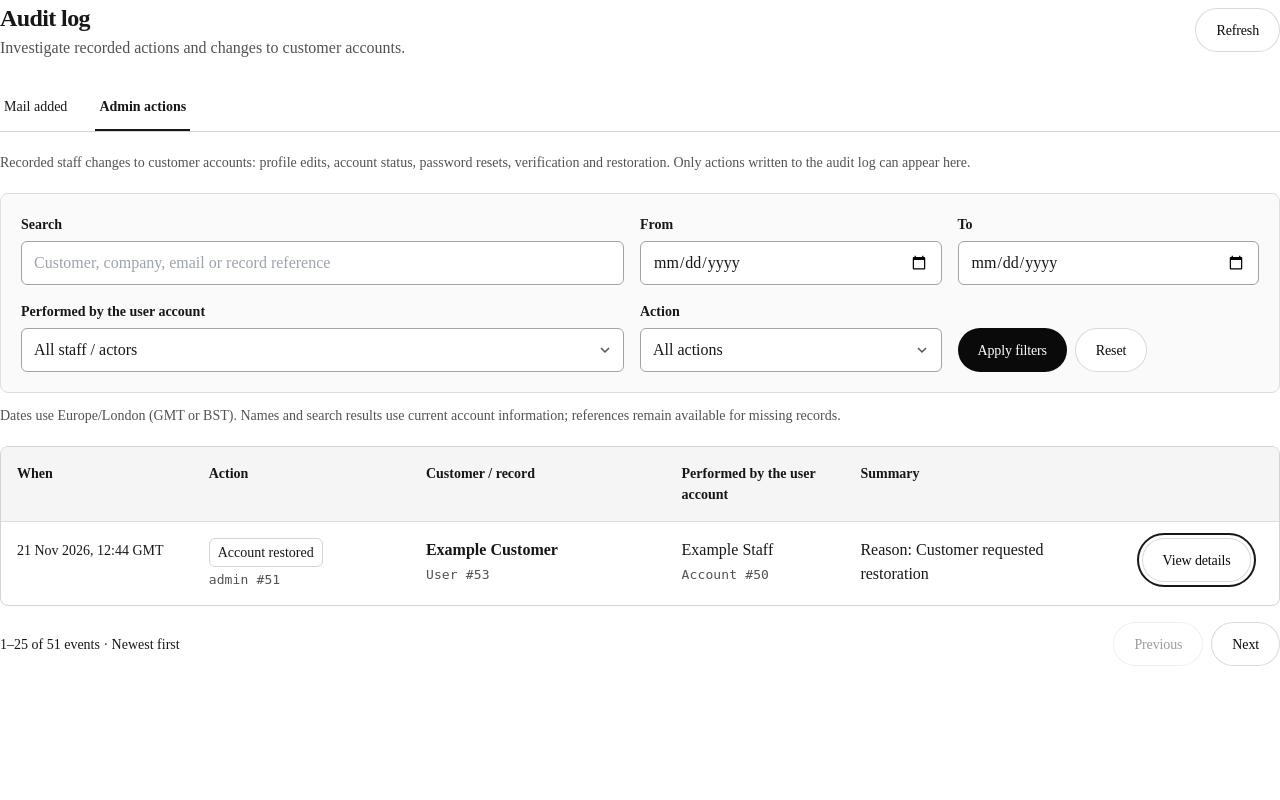
Test: audit investigation › opens a read-only panel, closes on Escape, and restores focus
Click the button with aria-label "View details for admin event 51" at coordinates (1197, 560), box x1=1142 y1=538 x2=1252 y2=582
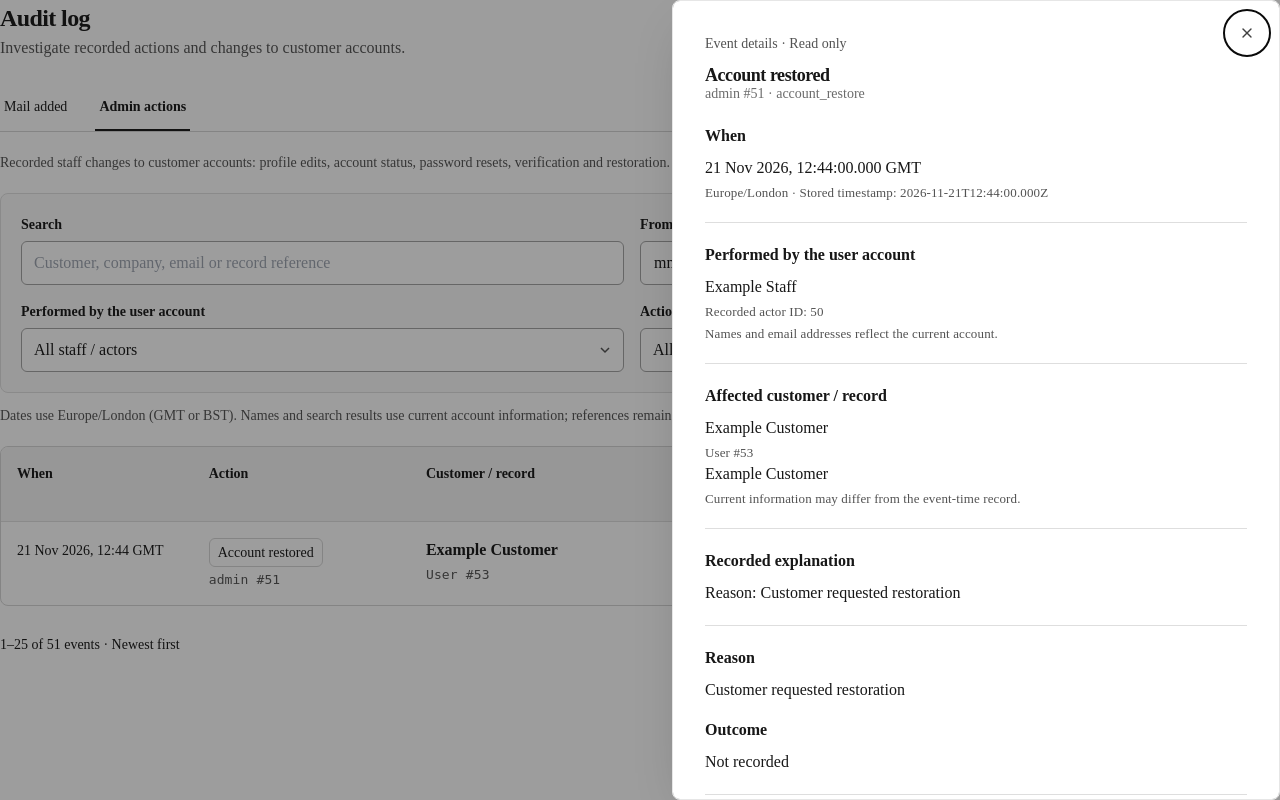
Now the heading "Account restored" is shown, box x1=705 y1=65 x2=830 y2=85
Now the text "21 Nov 2026, 12:44:00.000 GMT" is shown, box x1=705 y1=159 x2=921 y2=176
Now the text "Not recorded" is shown, box x1=705 y1=753 x2=789 y2=770
Press Escape in the button named "Close", box x1=1227 y1=13 x2=1267 y2=53
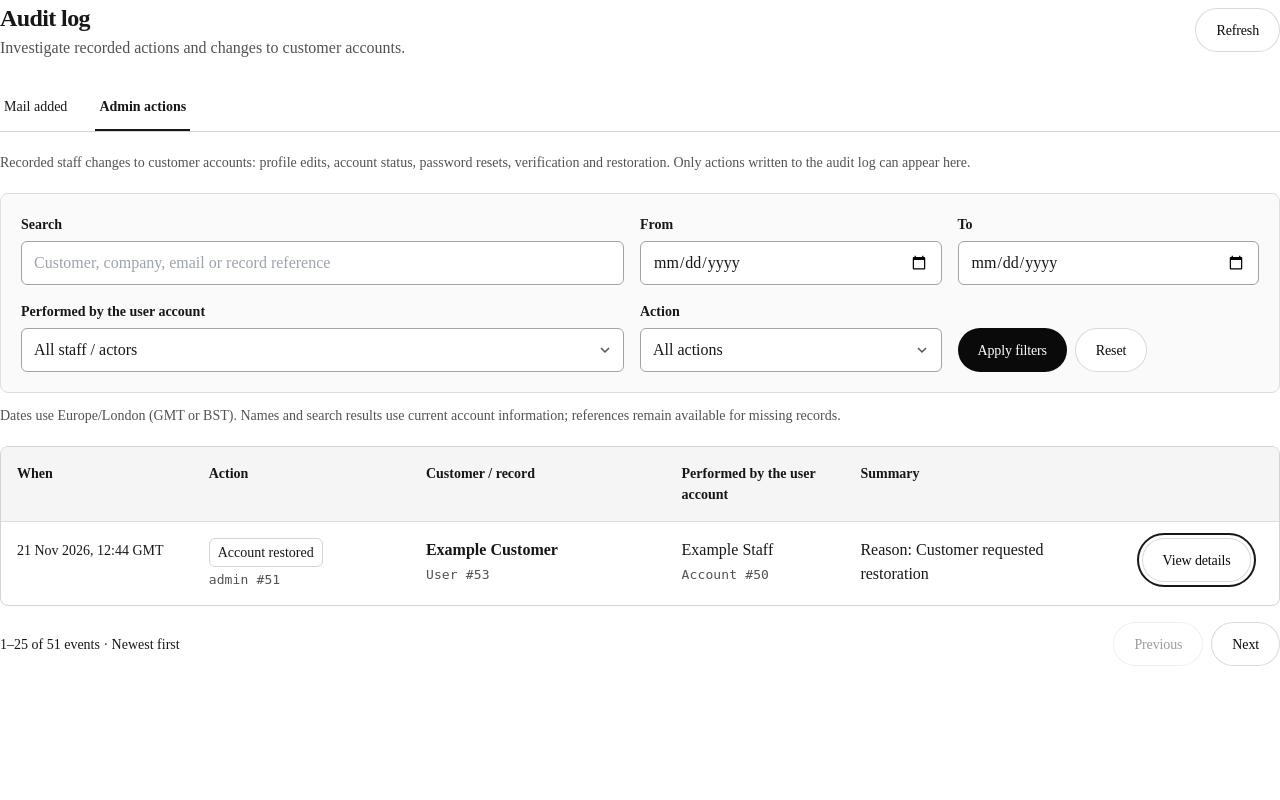
Now the dialog is gone
